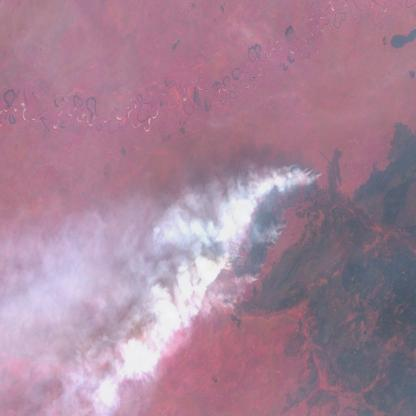fire: (211, 156, 325, 324)
